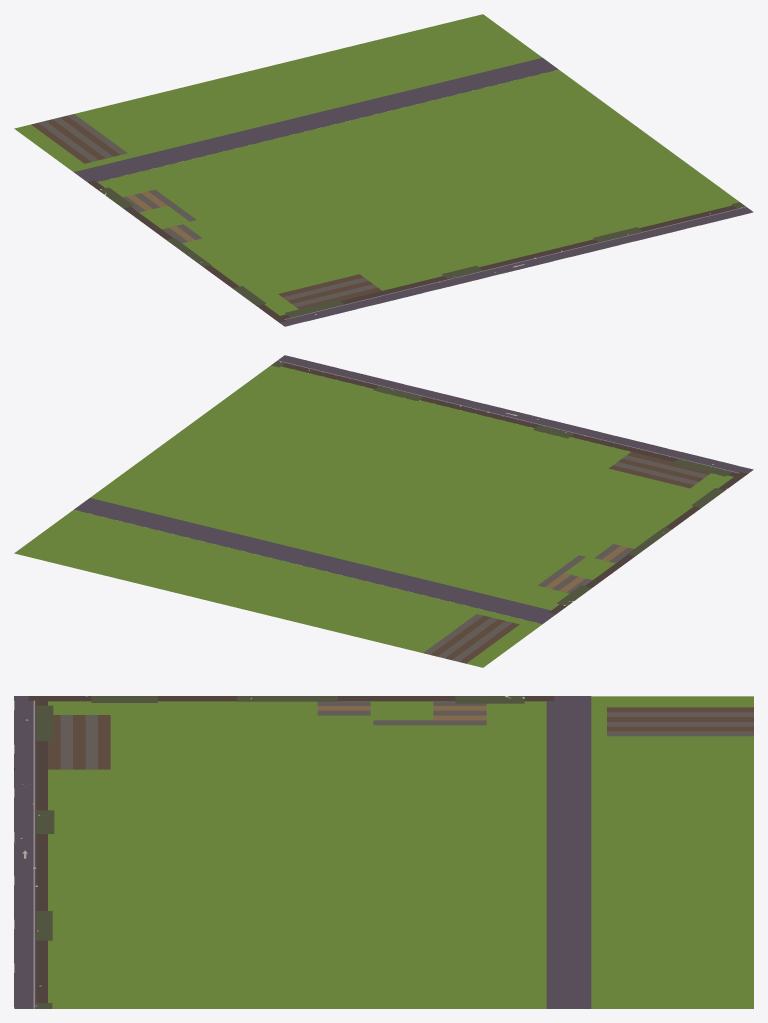
Rendered from cure-8-2.glb.
The picture shows the model from 3 angles, top to bottom: view 1: azimuth 30°, elevation 25°; view 2: azimuth 150°, elevation 25°; view 3: azimuth 270°, elevation 25°; orthographic projection. The views are drawn at different scales.
Parts seen in each view (by area): view 1: cure-8-2; view 2: cure-8-2; view 3: cure-8-2.
Boxes of the visible parts, x1,y1,x2,y2 form: cure-8-2: (14, 14, 753, 326); cure-8-2: (14, 355, 753, 667); cure-8-2: (14, 696, 753, 1008).
Bounding box in the file's own units: 100 × 0.017 × 100.
